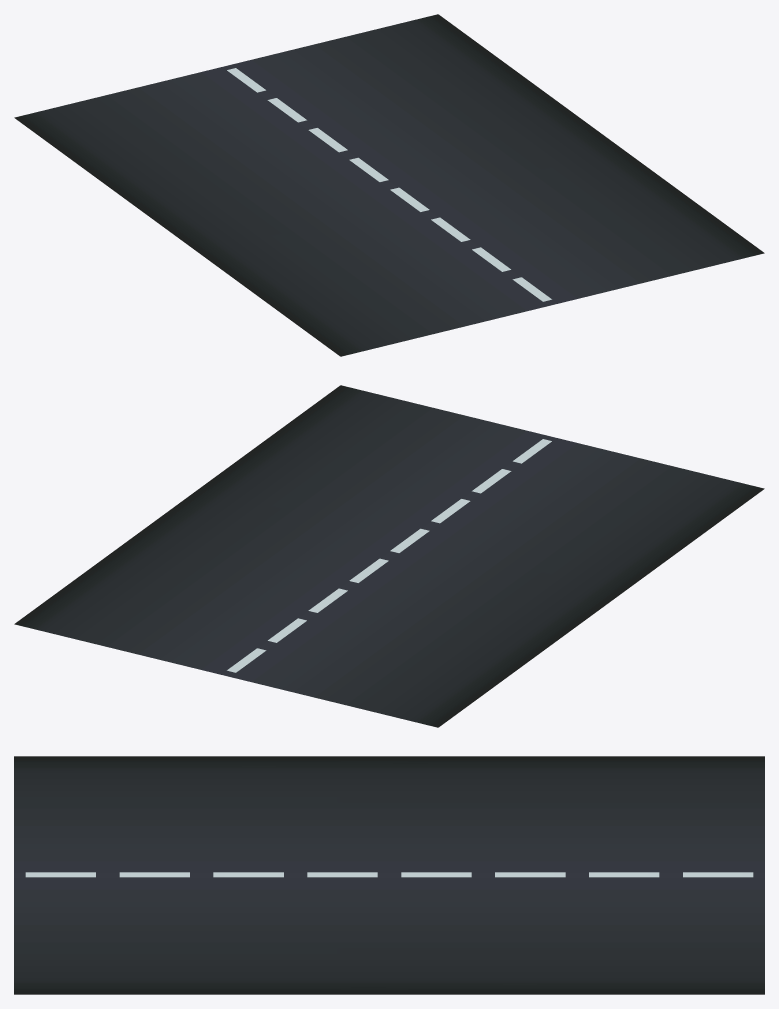
The model's file is straight.glb.
3 views of the same model, one above another, from view 1: azimuth 30°, elevation 25°; view 2: azimuth 150°, elevation 25°; view 3: azimuth 270°, elevation 25° (orthographic). The views are drawn at different scales.
Parts seen in each view (by area): view 1: road_section_x8.001; view 2: road_section_x8.001; view 3: road_section_x8.001.
Boxes of the visible parts, left/top/right/bottom form: road_section_x8.001: left=14, top=14, right=764, bottom=356; road_section_x8.001: left=14, top=385, right=764, bottom=727; road_section_x8.001: left=14, top=756, right=764, bottom=994.
Size of the model in its own units: 12 by 0.0158 by 16.
1 material, 1 textured.
